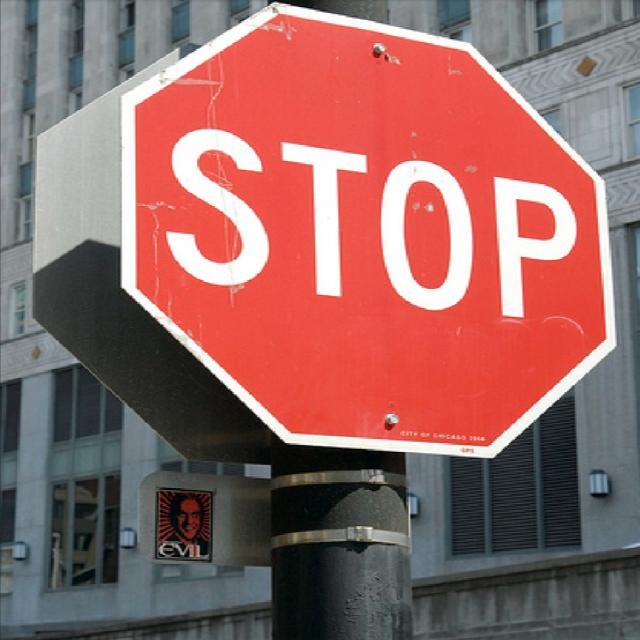STOP: (85, 1, 638, 476)
